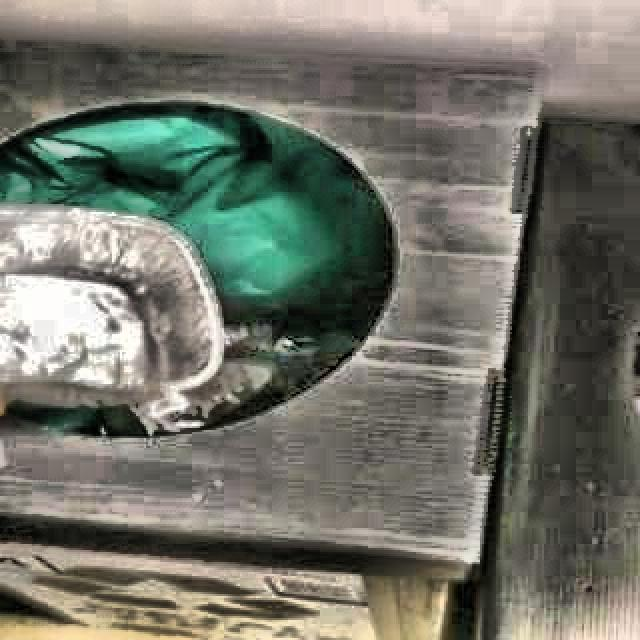metal: (0, 206, 224, 405)
